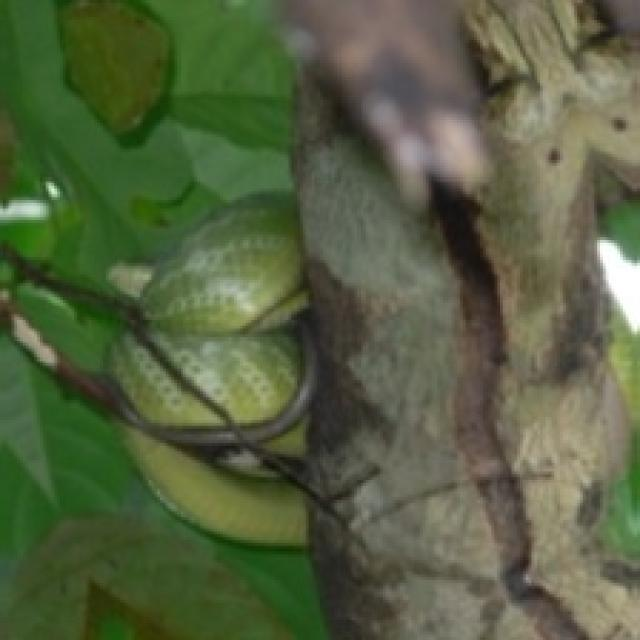red-tailed green ratsnake: (0, 194, 311, 546)
